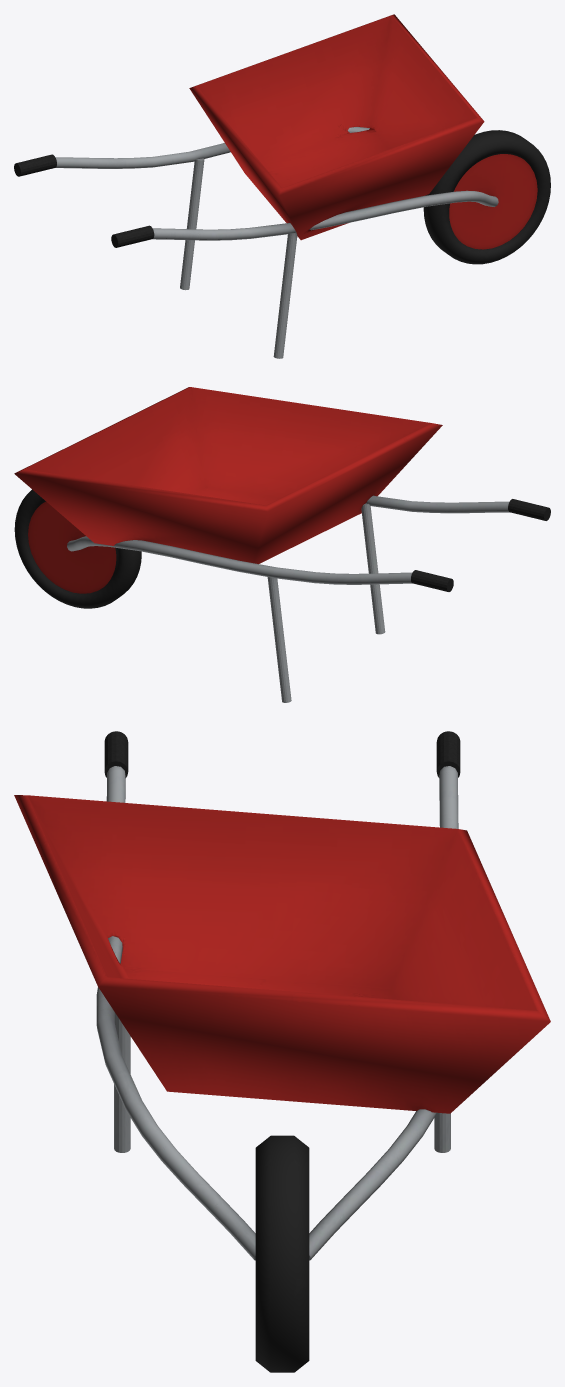
File: red.glb
3 renders of one model, top to bottom at view 1: azimuth 30°, elevation 25°; view 2: azimuth 150°, elevation 25°; view 3: azimuth 270°, elevation 25°, orthographic. The views are drawn at different scales.
Parts seen in each view (by area): view 1: paint_primary, steel, tyre, grip_rubber; view 2: paint_primary, steel, tyre, grip_rubber; view 3: paint_primary, steel, tyre, grip_rubber.
Boxes of the visible parts, x1,y1,x2,y2 form: paint_primary: (189,14,537,249); steel: (55,127,498,358); tyre: (423,130,550,264); grip_rubber: (14,154,154,247); paint_primary: (14,387,442,593); steel: (67,495,510,702); tyre: (14,489,141,608); grip_rubber: (411,499,550,591); paint_primary: (14,795,550,1113); steel: (96,766,458,1260); tyre: (255,1135,309,1372); grip_rubber: (104,731,460,777).
Bounding box in the file's own units: 1.6 × 0.6218 × 0.9051.
4 materials, 4 textured.
